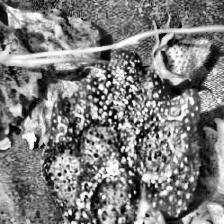Anthracnose Fruit Rot: (38, 50, 200, 224)
